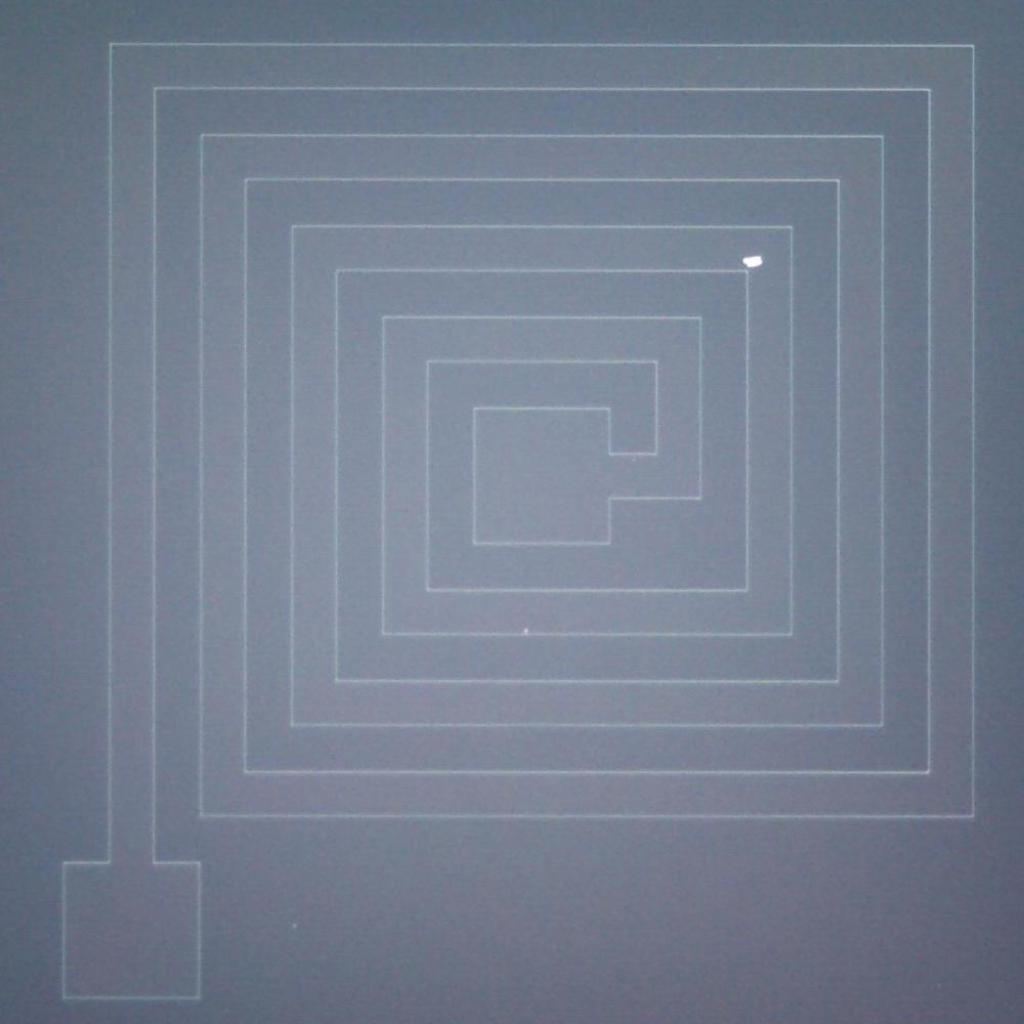spot: (738, 246, 772, 276)
